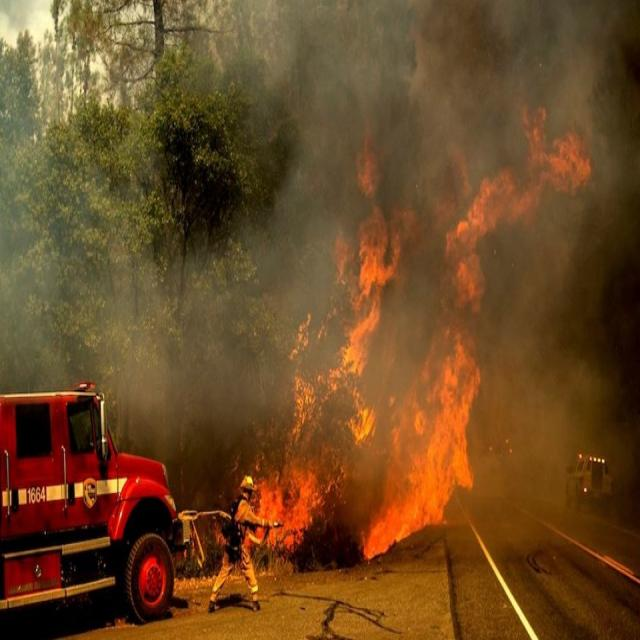fire: (402, 350, 473, 522), (263, 476, 313, 538)
